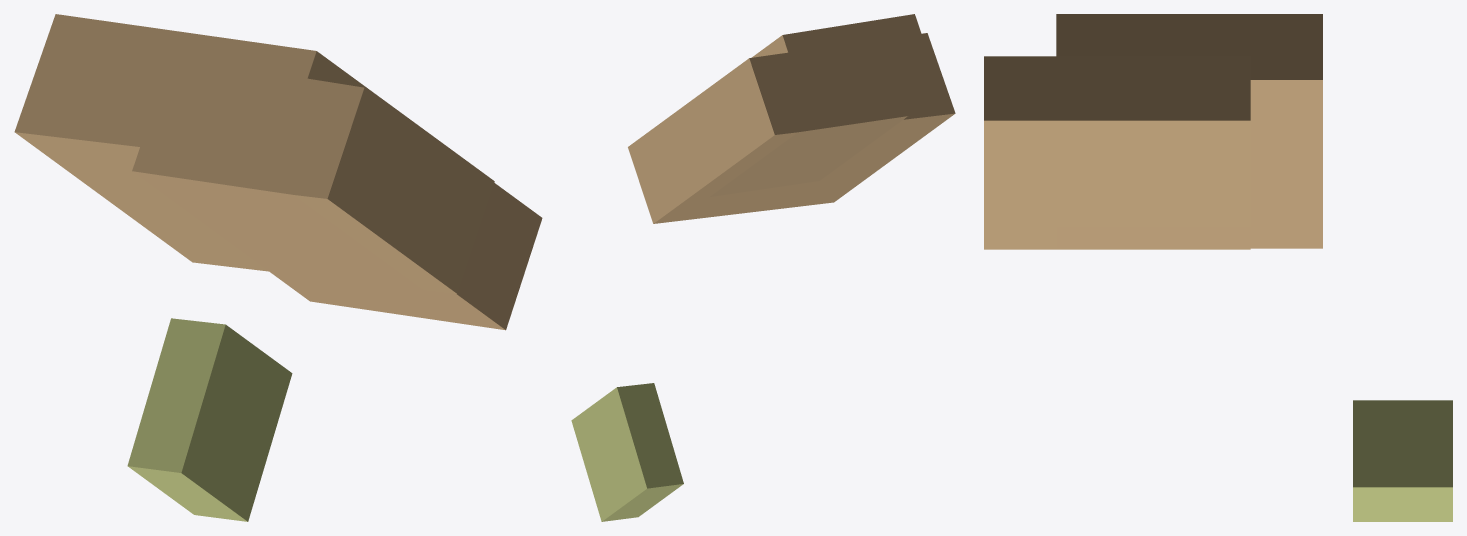
3 views of the same model, side by side, from view 1: azimuth 30°, elevation 25°; view 2: azimuth 150°, elevation 25°; view 3: azimuth 270°, elevation 25° (orthographic). The views are drawn at different scales.
Visible parts, largest first — view 1: 0_0_1_3_1_2_1_3; view 2: 0_0_1_3_1_2_1_3; view 3: 0_0_1_3_1_2_1_3.
Boxes of the visible parts, x1,y1,x2,y2 form: 0_0_1_3_1_2_1_3: [14, 14, 542, 521]; 0_0_1_3_1_2_1_3: [571, 14, 955, 521]; 0_0_1_3_1_2_1_3: [984, 14, 1452, 521].
Bounding box in the file's own units: 23.52 × 42.72 × 42.2.
